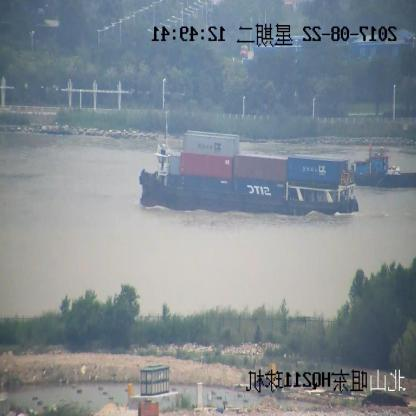Fishing Boat: (353, 145, 415, 188)
